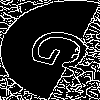G: (25, 25, 100, 78)
